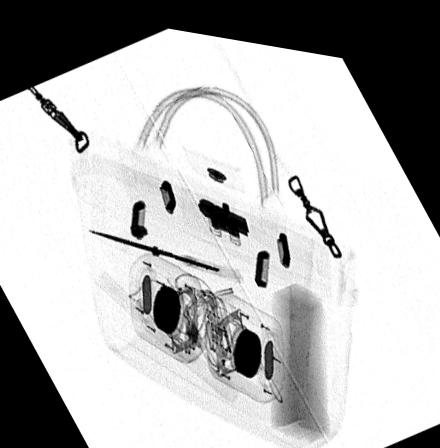Scissors: (85, 225, 240, 270)
